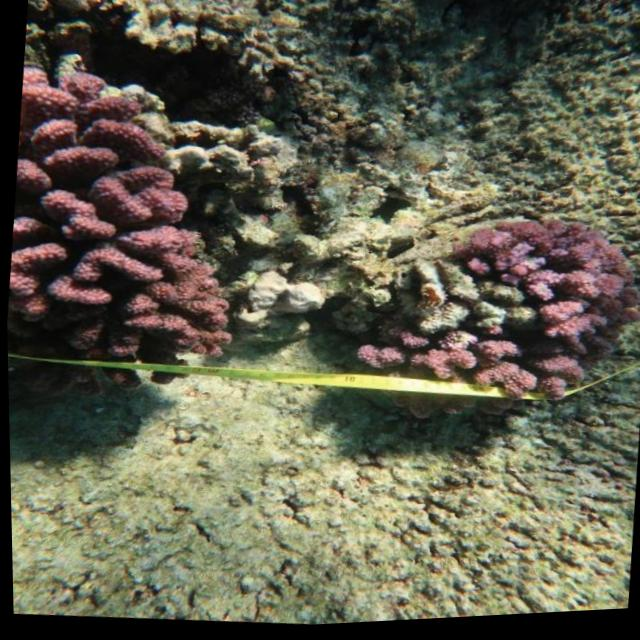Healthy Coral: (1, 61, 253, 383), (363, 211, 620, 420)
